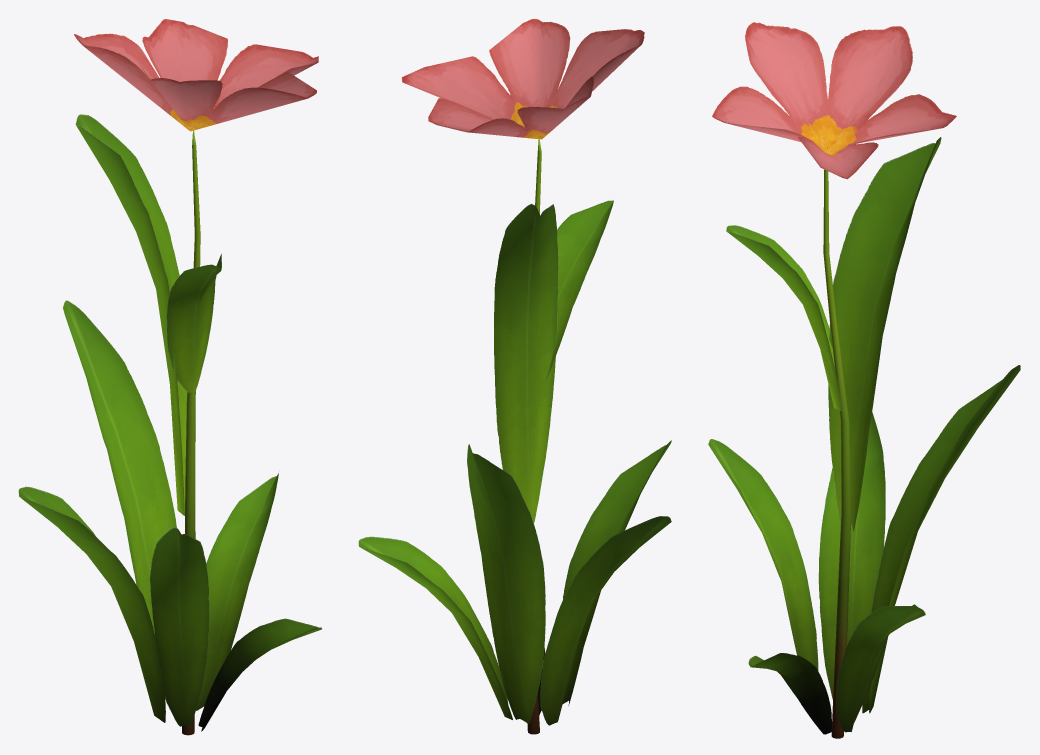
File: Flower_3_Single.glb
3 renders of one model, left to right at view 1: azimuth 30°, elevation 25°; view 2: azimuth 150°, elevation 25°; view 3: azimuth 270°, elevation 25°, orthographic. The views are drawn at different scales.
Parts seen in each view (by area): view 1: Flower_3_Single; view 2: Flower_3_Single; view 3: Flower_3_Single.
Boxes of the visible parts, box(x1,y1,x2,y2) form: Flower_3_Single: box(18, 19, 322, 735); Flower_3_Single: box(358, 18, 671, 734); Flower_3_Single: box(708, 22, 1020, 738).
Bounding box in the file's own units: 0.9066 × 2.07 × 0.8775.
2 materials, 2 textured.
